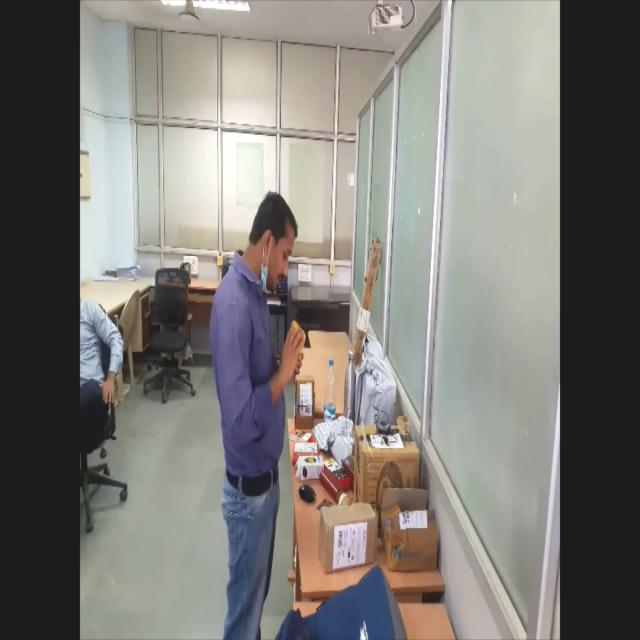normal: (205, 184, 313, 640)
